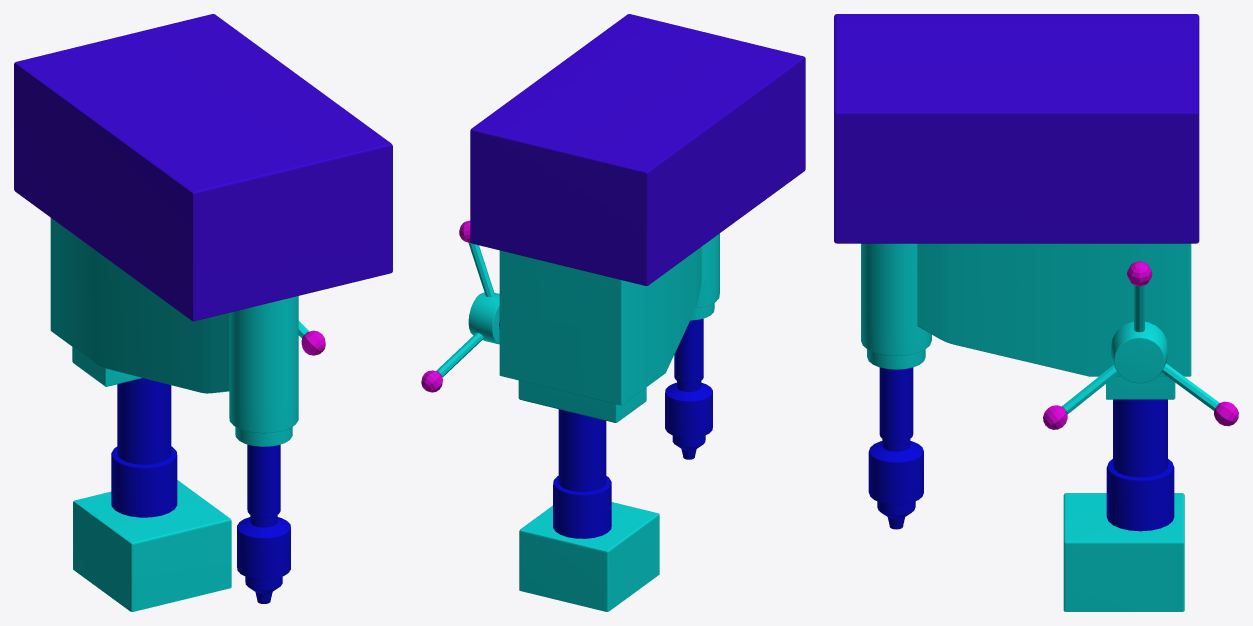
Rendered from SpindleMachine.fbx.
The picture shows the model from 3 angles, left to right: view 1: azimuth 30°, elevation 25°; view 2: azimuth 150°, elevation 25°; view 3: azimuth 270°, elevation 25°; orthographic projection. The views are drawn at different scales.
Parts seen in each view (by area): view 1: SpindleDrill; view 2: SpindleDrill; view 3: SpindleDrill.
Boxes of the visible parts, x1,y1,x2,y2 form: SpindleDrill: [14, 14, 392, 611]; SpindleDrill: [421, 14, 805, 611]; SpindleDrill: [834, 14, 1238, 611].
Bounding box in the file's own units: 0.5618 × 1.15 × 0.8049.
